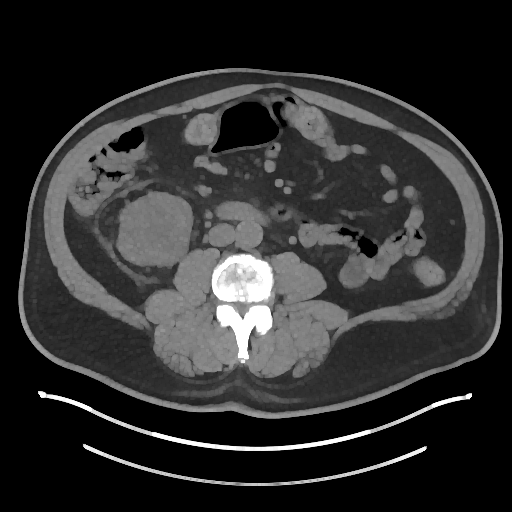Lesion: (114, 198, 191, 264)
